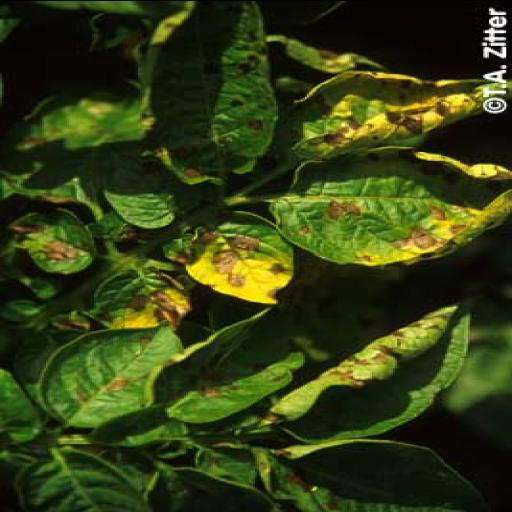Early Blight: (268, 152, 512, 264), (280, 56, 512, 162), (150, 297, 312, 429), (34, 316, 192, 437), (180, 206, 296, 307), (88, 262, 188, 334), (16, 202, 100, 273)
